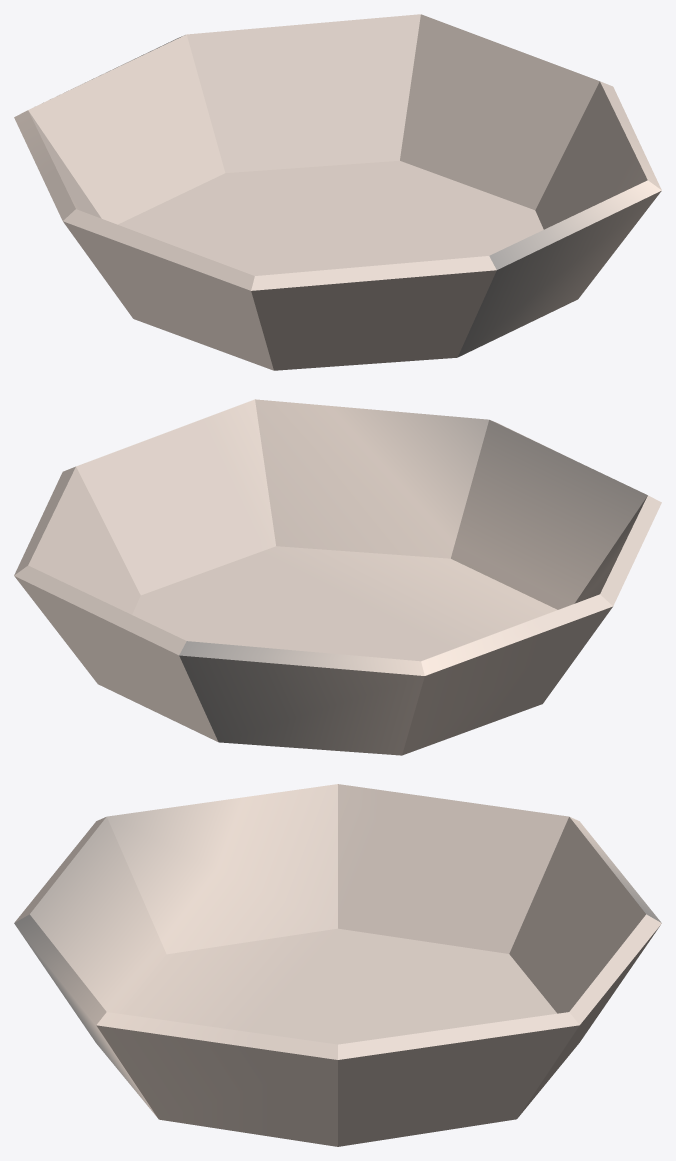
The model's file is Living_Room_bowls2.fbx.
The picture shows the model from 3 angles, top to bottom: view 1: azimuth 30°, elevation 25°; view 2: azimuth 150°, elevation 25°; view 3: azimuth 270°, elevation 25°; orthographic projection.
Parts seen in each view (by area): view 1: Living_Room_bowls2; view 2: Living_Room_bowls2; view 3: Living_Room_bowls2.
Part boxes in pixels (left/top/right/bottom): Living_Room_bowls2: left=14, top=14, right=661, bottom=370; Living_Room_bowls2: left=14, top=399, right=661, bottom=755; Living_Room_bowls2: left=14, top=784, right=661, bottom=1146.
Size of the model in its own units: 29.87 by 6.67 by 29.88.
